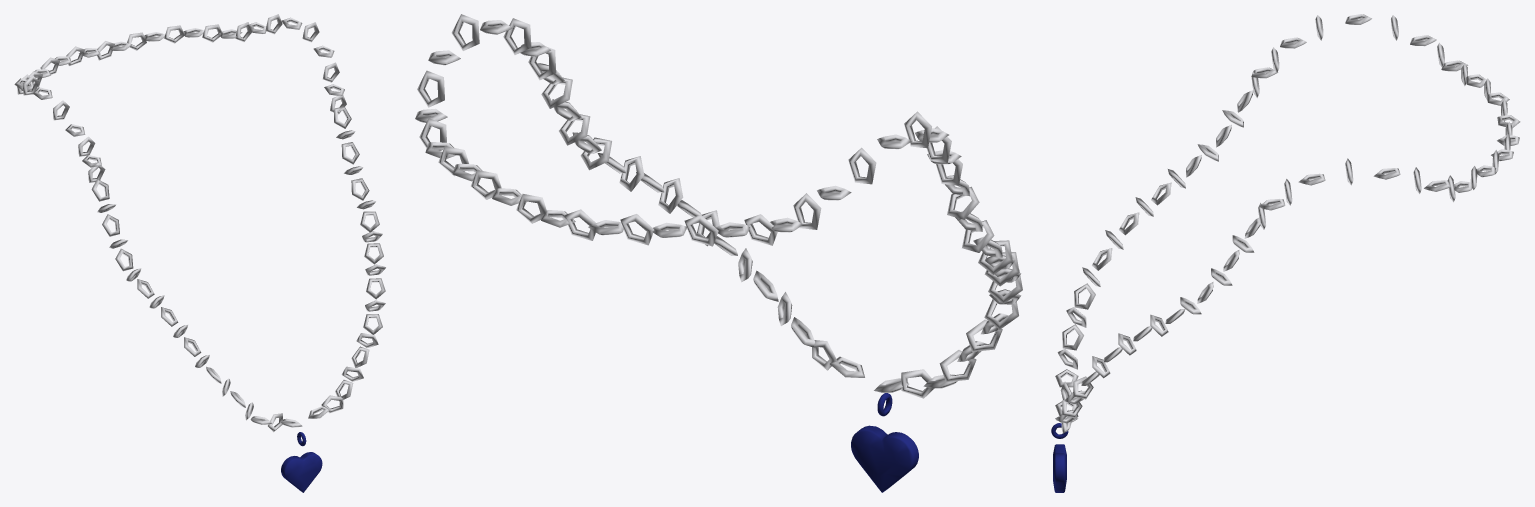
Rendered from acc_chain_heart.glb.
3 views of the same model, side by side, from view 1: azimuth 30°, elevation 25°; view 2: azimuth 150°, elevation 25°; view 3: azimuth 270°, elevation 25° (orthographic). The views are drawn at different scales.
Visible parts, largest first — view 1: acc_chain_heart_0_metal, acc_chain_heart_1_secondary; view 2: acc_chain_heart_0_metal, acc_chain_heart_1_secondary; view 3: acc_chain_heart_0_metal, acc_chain_heart_1_secondary.
Boxes of the visible parts, x1,y1,x2,y2 form: acc_chain_heart_0_metal: (14,14,385,432); acc_chain_heart_1_secondary: (281,432,322,492); acc_chain_heart_0_metal: (415,14,1022,398); acc_chain_heart_1_secondary: (851,393,918,492); acc_chain_heart_0_metal: (1055,14,1520,433); acc_chain_heart_1_secondary: (1051,423,1068,492).
Bounding box in the file's own units: 0.1856 × 0.219 × 0.2279.
